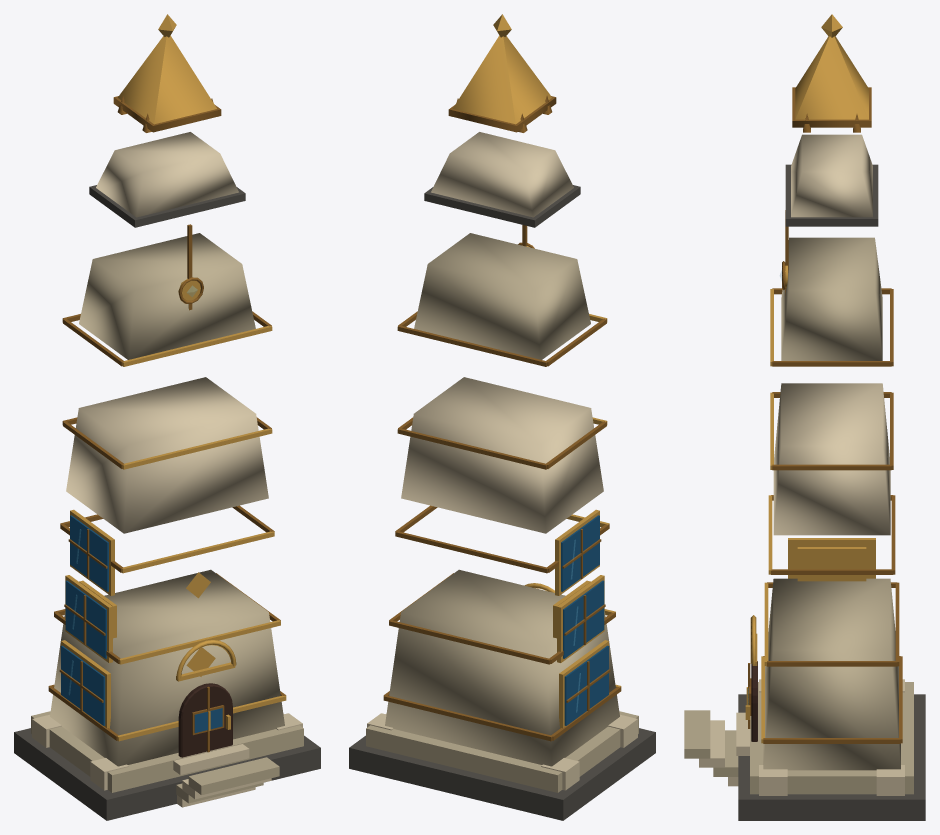
The model's file is asset.glb.
3 renders of one model, left to right at view 1: azimuth 30°, elevation 25°; view 2: azimuth 150°, elevation 25°; view 3: azimuth 270°, elevation 25°, orthographic.
Visible parts, largest first — view 1: Tower_LowerBody, Tower_MiddleBody, Tower_UpperBody, Tower_Crown, Foundation_LowerBlock, Crown_PyramidFinial, Foundation_UpperBlock, Entrance_DoorPanel, LeftWindow_1_Glass, LeftWindow_2_Glass, Entrance_Step_4, LeftWindow_3_Glass (+13 smaller); view 2: Tower_LowerBody, Tower_MiddleBody, Tower_UpperBody, Foundation_LowerBlock, Tower_Crown, Foundation_UpperBlock, Crown_PyramidFinial, LeftWindow_1_Glass, LeftWindow_2_Glass, LeftWindow_3_Glass, Crown_Deck, GoldBand_1_BackTrim (+10 smaller); view 3: Tower_LowerBody, Tower_MiddleBody, Tower_UpperBody, Foundation_LowerBlock, Tower_Crown, Crown_PyramidFinial, Foundation_UpperBlock, MiddleBody_LeftWindow_GoldFrame, Crown_Deck, LeftWindow_2_GoldFrame, Entrance_Step_4, Crown_FinialCollar (+11 smaller).
Part boxes in pixels (left/top/right/bottom): Tower_LowerBody: left=50, top=569, right=284, bottom=766; Tower_MiddleBody: left=66, top=377, right=268, bottom=533; Tower_UpperBody: left=79, top=233, right=255, bottom=359; Tower_Crown: left=96, top=132, right=238, bottom=217; Foundation_LowerBlock: left=14, top=728, right=320, bottom=820; Crown_PyramidFinial: left=118, top=35, right=216, bottom=124; Foundation_UpperBlock: left=31, top=711, right=303, bottom=792; Entrance_DoorPanel: left=178, top=683, right=232, bottom=757; LeftWindow_1_Glass: left=61, top=645, right=105, bottom=725; LeftWindow_2_Glass: left=65, top=580, right=106, bottom=658; Entrance_Step_4: left=188, top=757, right=279, bottom=795; LeftWindow_3_Glass: left=70, top=515, right=108, bottom=591; Tower_LowerBody: left=385, top=569, right=619, bottom=766; Tower_MiddleBody: left=401, top=377, right=603, bottom=533; Tower_UpperBody: left=414, top=233, right=590, bottom=359; Foundation_LowerBlock: left=349, top=728, right=655, bottom=820; Tower_Crown: left=431, top=132, right=573, bottom=217; Foundation_UpperBlock: left=366, top=711, right=638, bottom=792; Crown_PyramidFinial: left=453, top=35, right=551, bottom=124; LeftWindow_1_Glass: left=564, top=645, right=608, bottom=725; LeftWindow_2_Glass: left=563, top=580, right=604, bottom=658; LeftWindow_3_Glass: left=561, top=515, right=599, bottom=591; Crown_Deck: left=424, top=185, right=580, bottom=227; GoldBand_1_BackTrim: left=383, top=695, right=552, bottom=741; Tower_LowerBody: left=763, top=578, right=900, bottom=770; Tower_MiddleBody: left=773, top=383, right=890, bottom=535; Tower_UpperBody: left=781, top=237, right=882, bottom=360; Foundation_LowerBlock: left=738, top=694, right=925, bottom=820; Tower_Crown: left=791, top=134, right=872, bottom=217; Crown_PyramidFinial: left=795, top=36, right=868, bottom=119; Foundation_UpperBlock: left=750, top=682, right=913, bottom=794; MiddleBody_LeftWindow_GoldFrame: left=797, top=547, right=866, bottom=581; Crown_Deck: left=785, top=164, right=878, bottom=226; LeftWindow_2_GoldFrame: left=788, top=538, right=875, bottom=578; Entrance_Step_4: left=684, top=710, right=710, bottom=758; Crown_FinialCollar: left=792, top=87, right=871, bottom=127.
Size of what is drawn, in the model's own units: 4.8 by 16 by 4.64.
